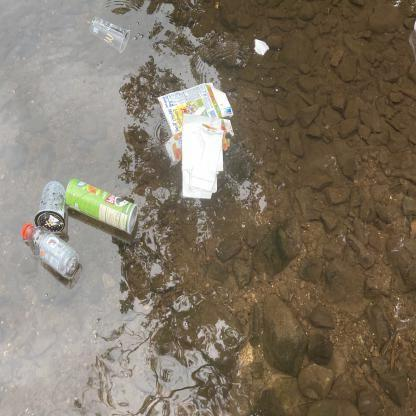Metal: (58, 174, 145, 242)
Plastic: (16, 218, 85, 281), (31, 175, 70, 238), (87, 12, 136, 55)
Trash: (252, 32, 270, 58)
